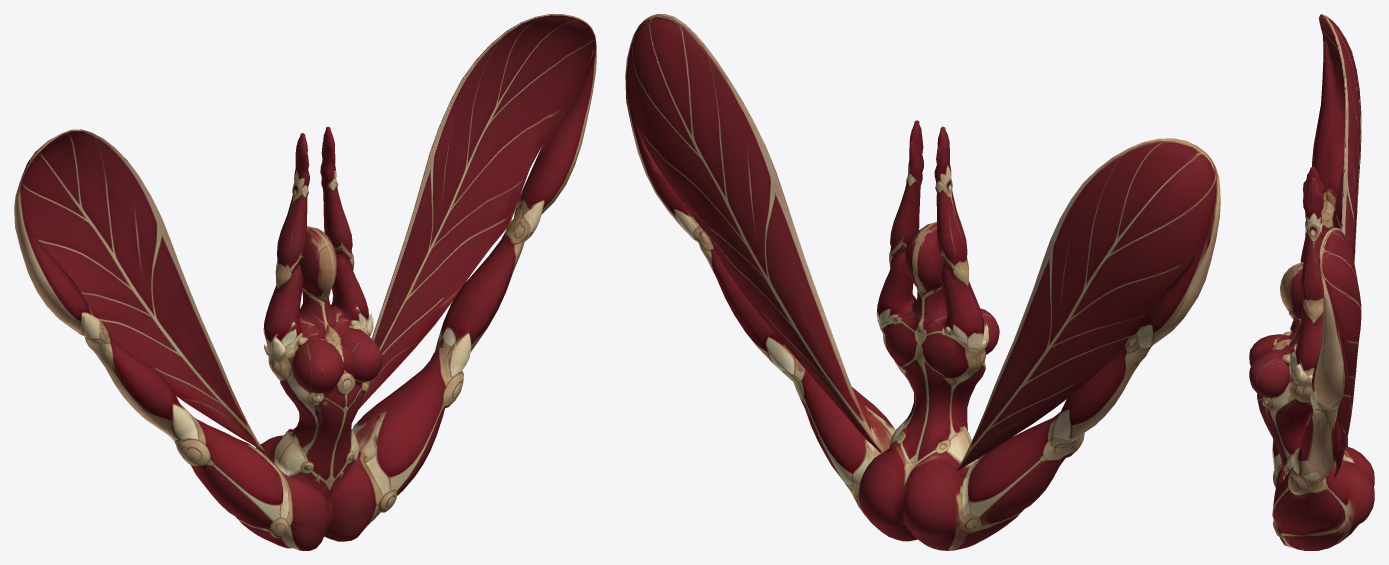
The model's file is kiichigo_bird.glb.
3 renders of one model, left to right at view 1: azimuth 30°, elevation 25°; view 2: azimuth 150°, elevation 25°; view 3: azimuth 270°, elevation 25°, orthographic. The views are drawn at different scales.
Parts seen in each view (by area): view 1: tripo_node_9138885e-984a-493a-b101-d370c9ea4132; view 2: tripo_node_9138885e-984a-493a-b101-d370c9ea4132; view 3: tripo_node_9138885e-984a-493a-b101-d370c9ea4132.
Boxes of the visible parts, bbox=[...] form: tripo_node_9138885e-984a-493a-b101-d370c9ea4132: bbox=[14, 14, 596, 550]; tripo_node_9138885e-984a-493a-b101-d370c9ea4132: bbox=[625, 14, 1220, 550]; tripo_node_9138885e-984a-493a-b101-d370c9ea4132: bbox=[1249, 14, 1374, 550].
Size of the model in its own units: 0.9995 by 0.7603 by 0.2085.
1 material, 1 textured.
